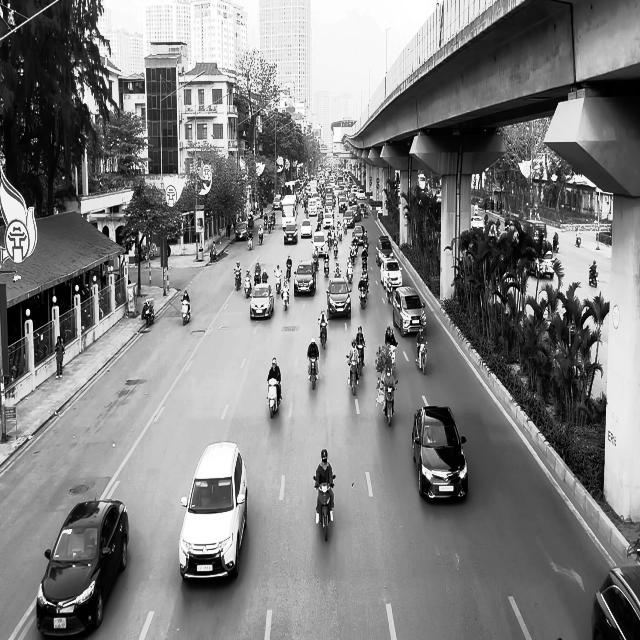car: (36, 498, 129, 638), (178, 441, 248, 581), (412, 404, 468, 500), (590, 564, 640, 640), (392, 286, 427, 336), (326, 277, 351, 319), (250, 283, 274, 319), (293, 260, 316, 296), (235, 221, 248, 240)
motorbike: (313, 474, 335, 542), (380, 379, 398, 427), (266, 378, 282, 418), (346, 355, 360, 396), (416, 342, 427, 374), (142, 299, 155, 326), (308, 356, 318, 390), (319, 321, 328, 349), (181, 300, 190, 326), (588, 266, 598, 287), (234, 270, 241, 291)
